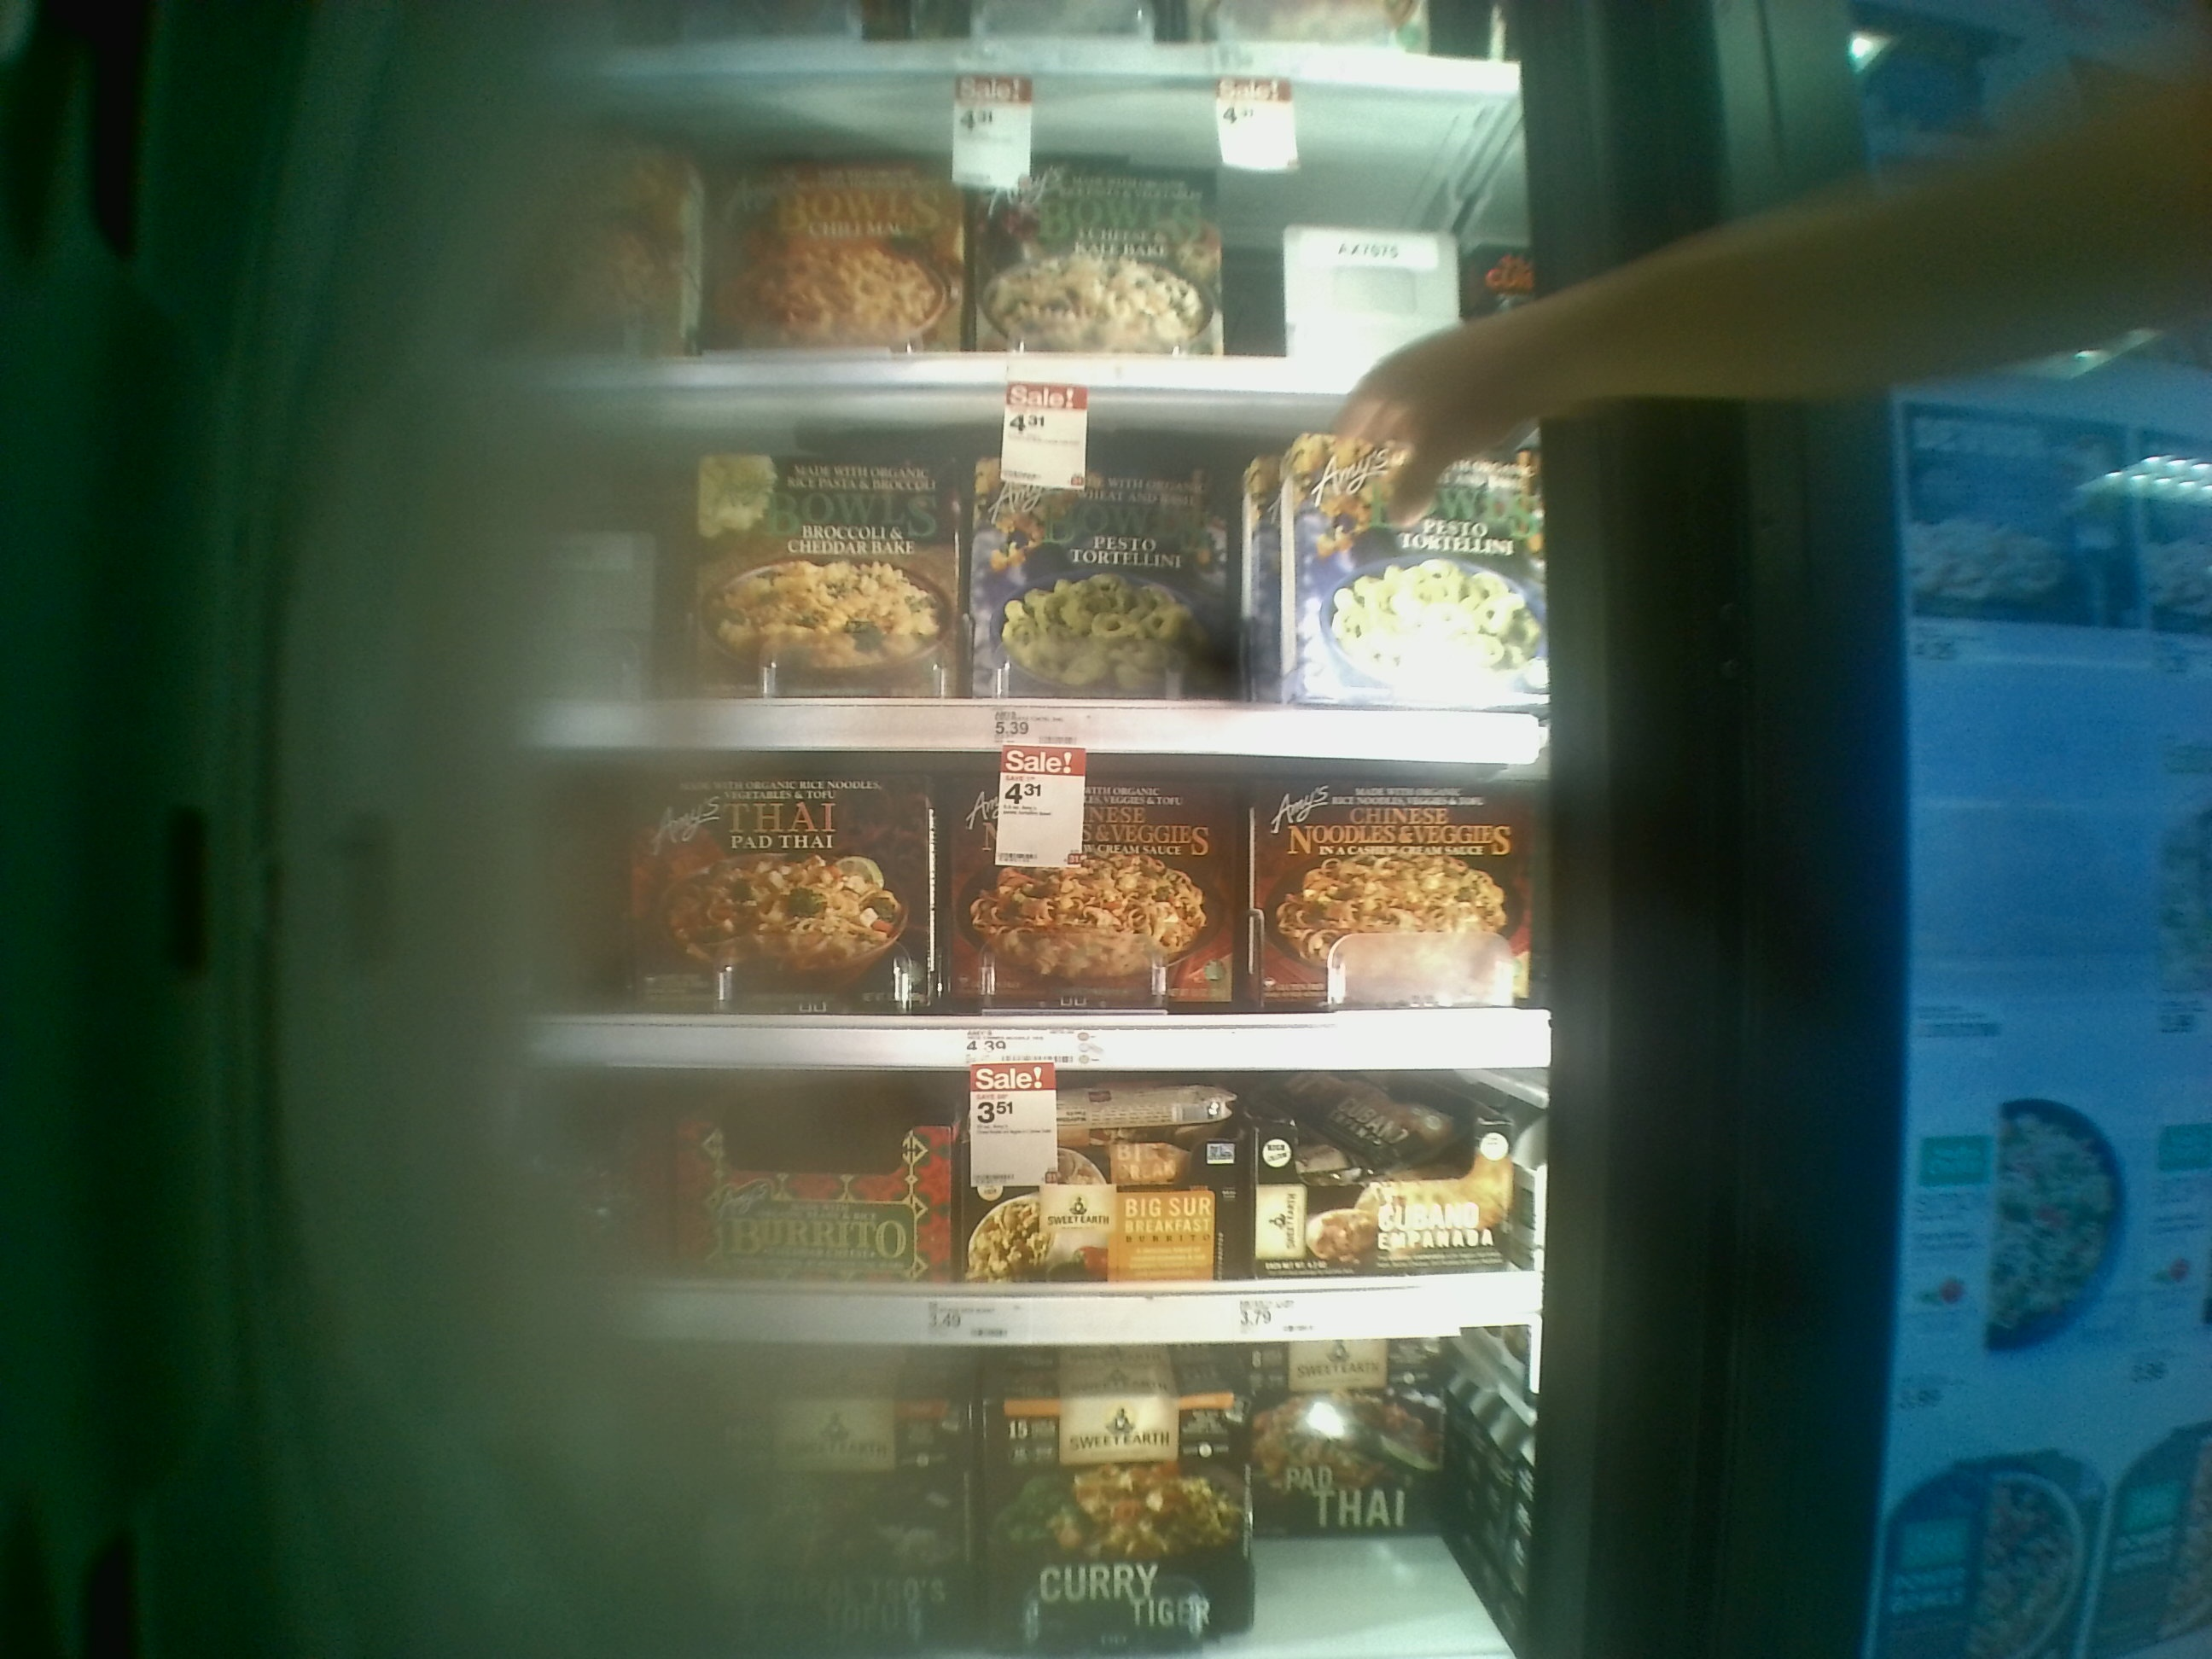frozen-food-shelf: (374, 410, 1564, 762), (371, 762, 1581, 1079), (374, 1079, 1583, 1351)
